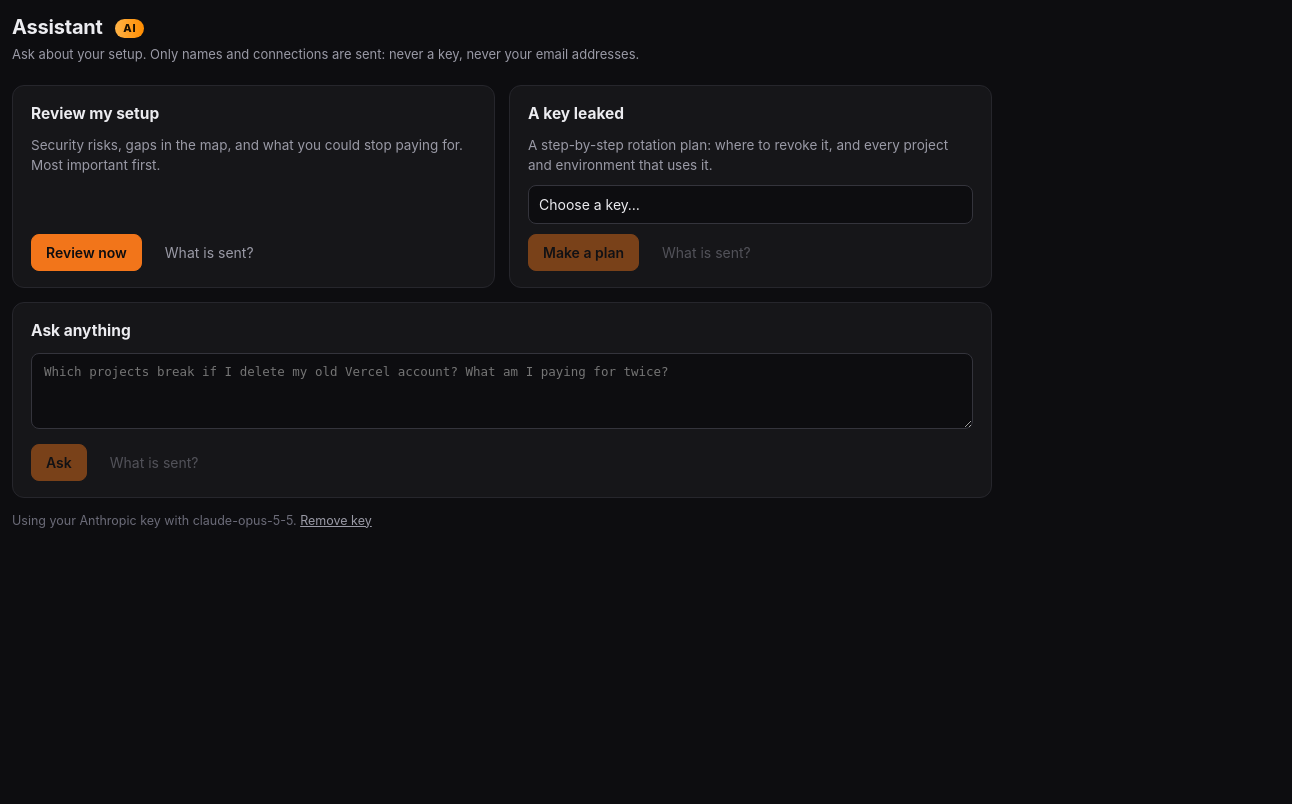
Test: Assistant › shows exactly what is sent, then the answer
Click the button "What is sent?" below "Review my setup": (209, 253) [150,234,268,271]
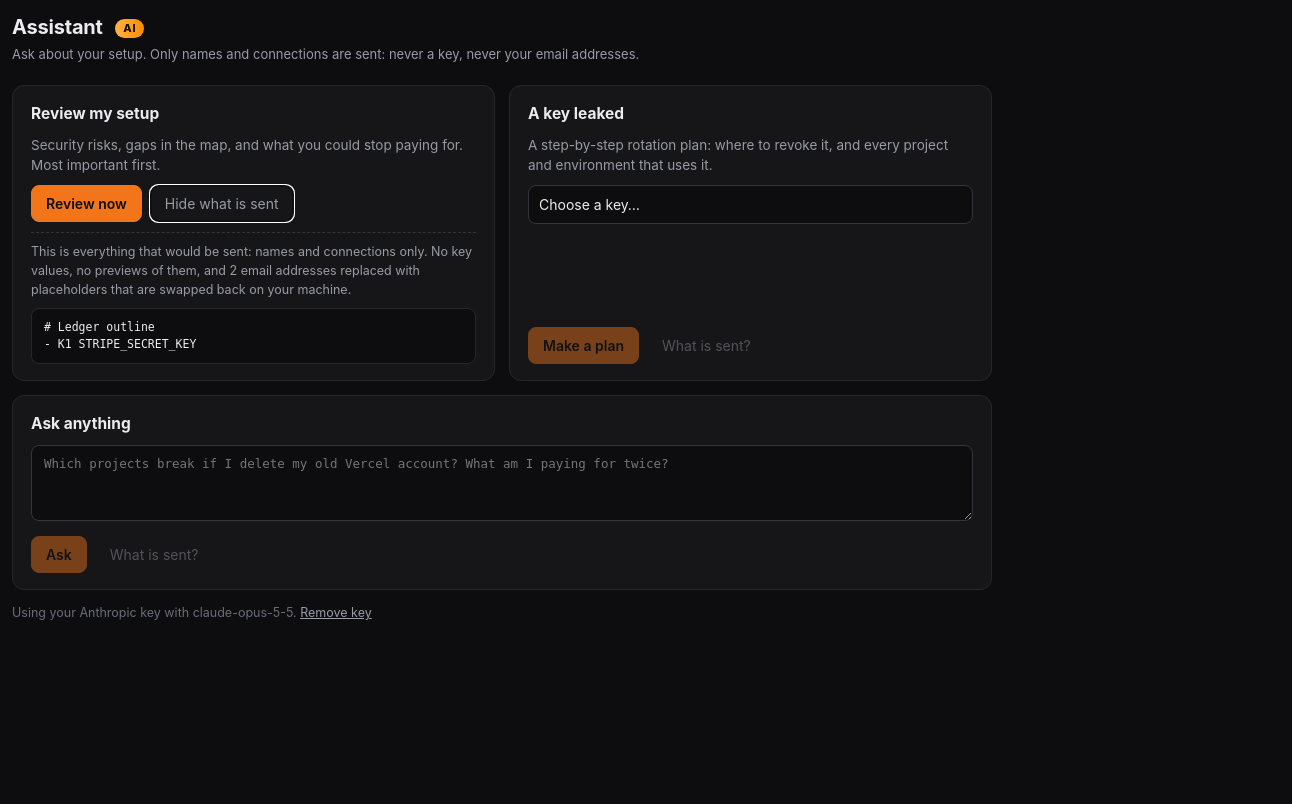
Check: the text "# Ledger outline - K1 STRIPE_SECRET_KEY" is shown, box [31,308,476,364]
Check: the text "2 email addresses" is shown, box [31,243,476,300]
Click the button "Review now": (86, 204) [31,185,142,222]
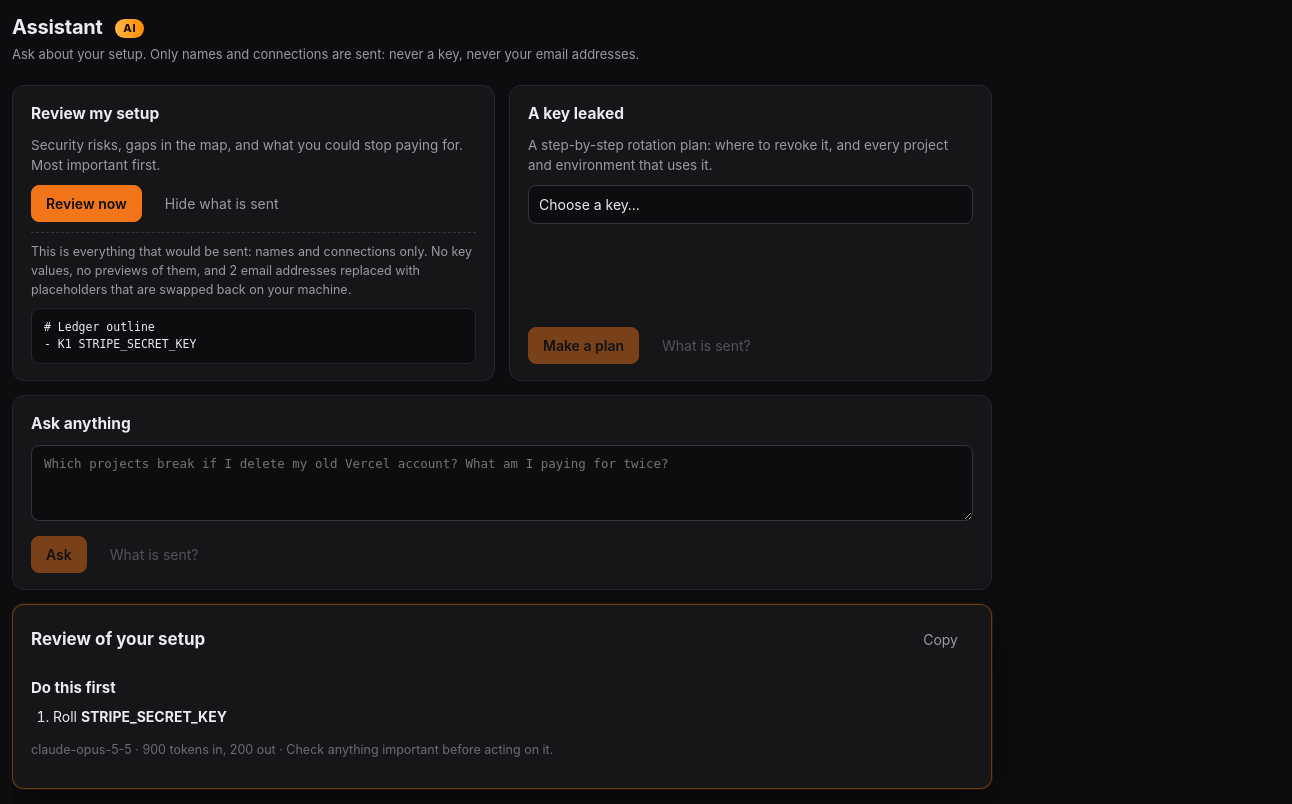
Check: the heading "Do this first" is shown, box [31,678,116,697]
Check: the text "STRIPE_SECRET_KEY" is shown, box [81,708,227,725]
